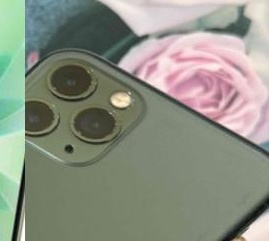scratch: (25, 50, 139, 154)
